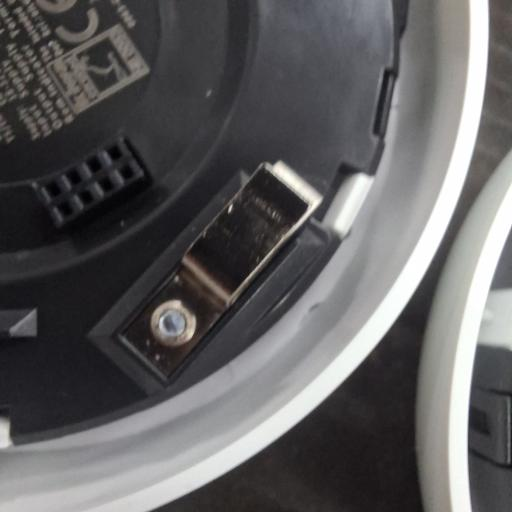yayli: (110, 160, 320, 384)
